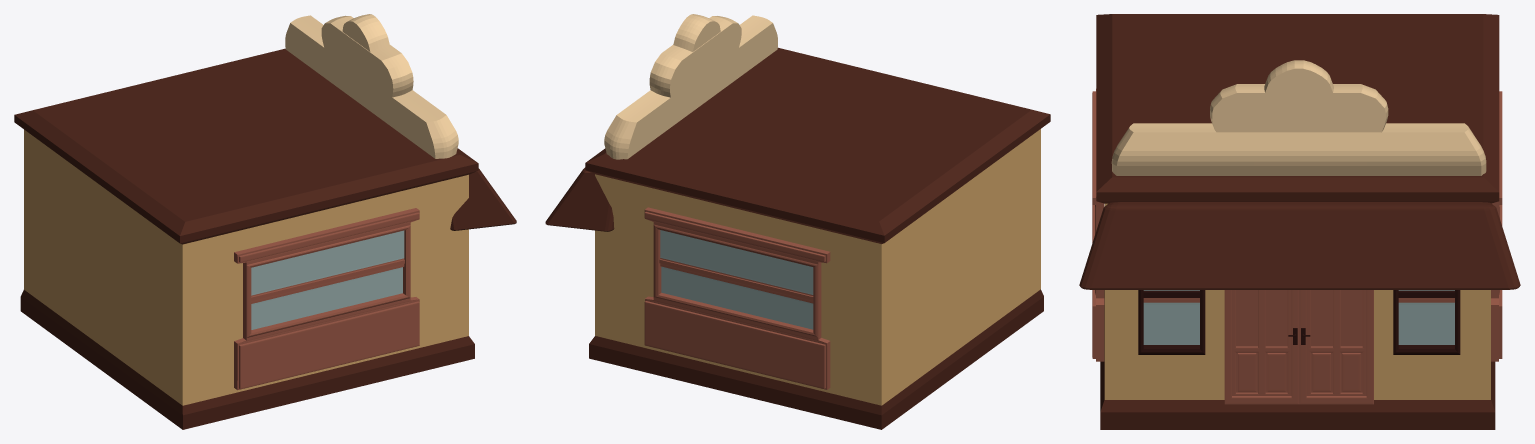
The model's file is ShopShort.fbx.
3 views of the same model, side by side, from view 1: azimuth 30°, elevation 25°; view 2: azimuth 150°, elevation 25°; view 3: azimuth 270°, elevation 25° (orthographic). The views are drawn at different scales.
Visible parts, largest first — view 1: BasicShort.002, TwoPaneExtraWide.008, Sign.001, Afdak.001; view 2: BasicShort.002, TwoPaneExtraWide.008, Sign.001, Afdak.001; view 3: BasicShort.002, Afdak.001, Sign.001, SingleGlassDoor.004, TwoPaneWindow.007, TwoPaneExtraWide.008.
Boxes of the visible parts, box(x1,y1,x2,y2) form: BasicShort.002: box(14, 48, 478, 429); TwoPaneExtraWide.008: box(234, 208, 419, 390); Sign.001: box(285, 14, 458, 158); Afdak.001: box(450, 168, 516, 230); BasicShort.002: box(585, 47, 1050, 429); TwoPaneExtraWide.008: box(644, 207, 830, 389); Sign.001: box(604, 14, 777, 159); Afdak.001: box(545, 167, 614, 231); BasicShort.002: box(1096, 14, 1499, 429); Afdak.001: box(1079, 202, 1520, 289); Sign.001: box(1111, 60, 1486, 175); SingleGlassDoor.004: box(1224, 290, 1373, 404); TwoPaneWindow.007: box(1138, 290, 1460, 354); TwoPaneExtraWide.008: box(1092, 89, 1502, 361).
Bounding box in the file's own units: 0.1745 × 0.1848 × 0.1527.
